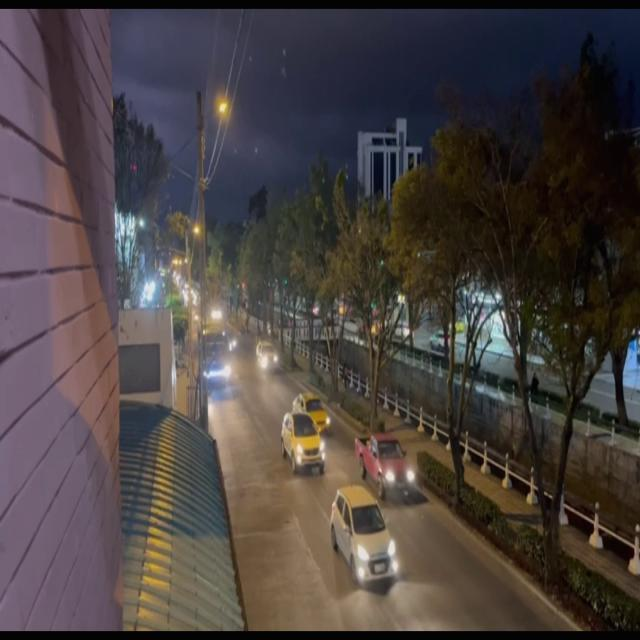CMT: (359, 435, 415, 494)
